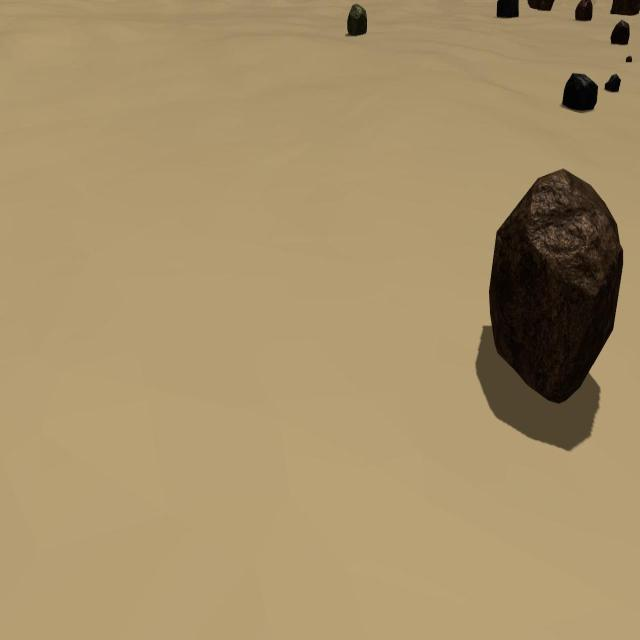rock: (488, 168, 624, 406), (561, 73, 598, 112), (347, 3, 367, 36), (610, 20, 630, 44), (608, 0, 640, 15), (574, 0, 593, 20), (497, 2, 519, 18), (605, 73, 621, 94), (528, 1, 554, 12), (625, 55, 632, 62)
